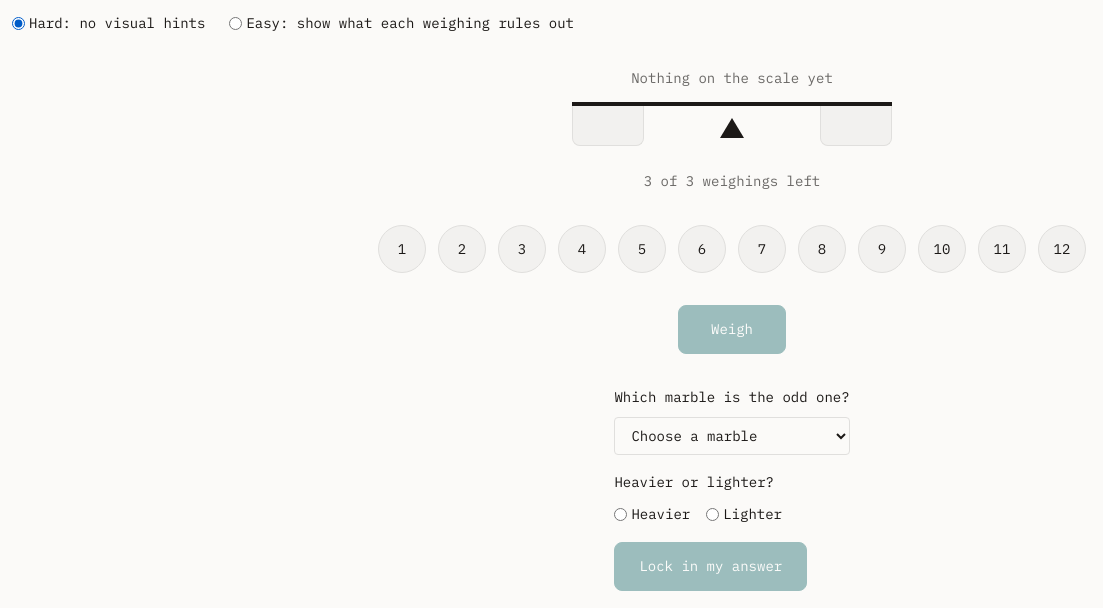
it: MarblePuzzle › only enables "Weigh" once both pans hold an equal, non-zero number of marbles
The image size is (1103, 608).
expect the button "Weigh" is disabled: met, box [678,305,786,354]
Click the button "1": (402, 249) [378,225,426,273]
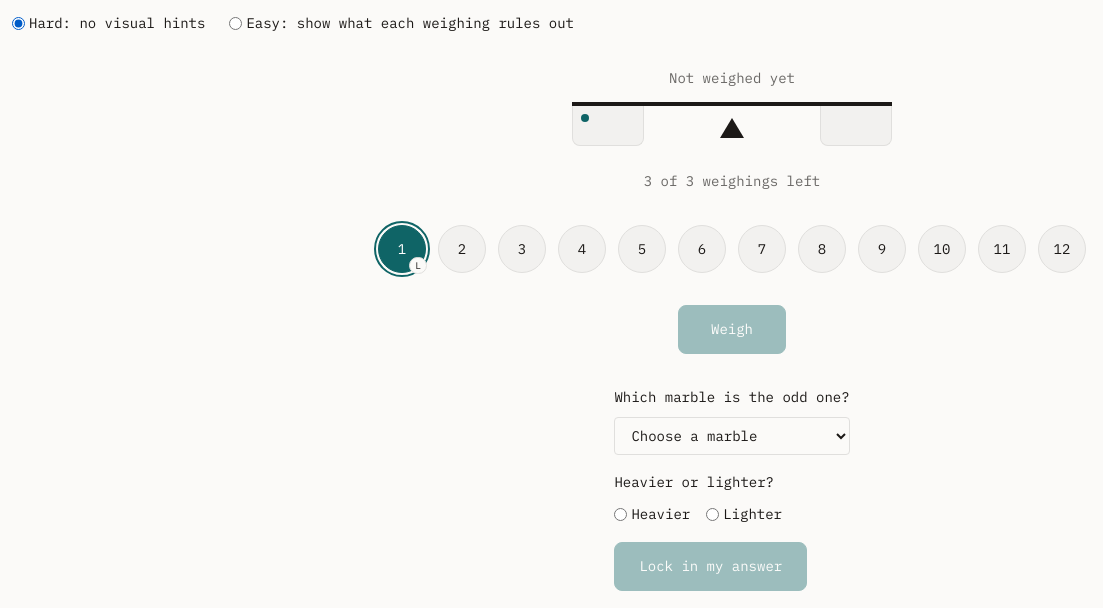
expect the button "Weigh" is disabled: met, box [678,305,786,354]
Click the button "2": (462, 249) [438,225,486,273]
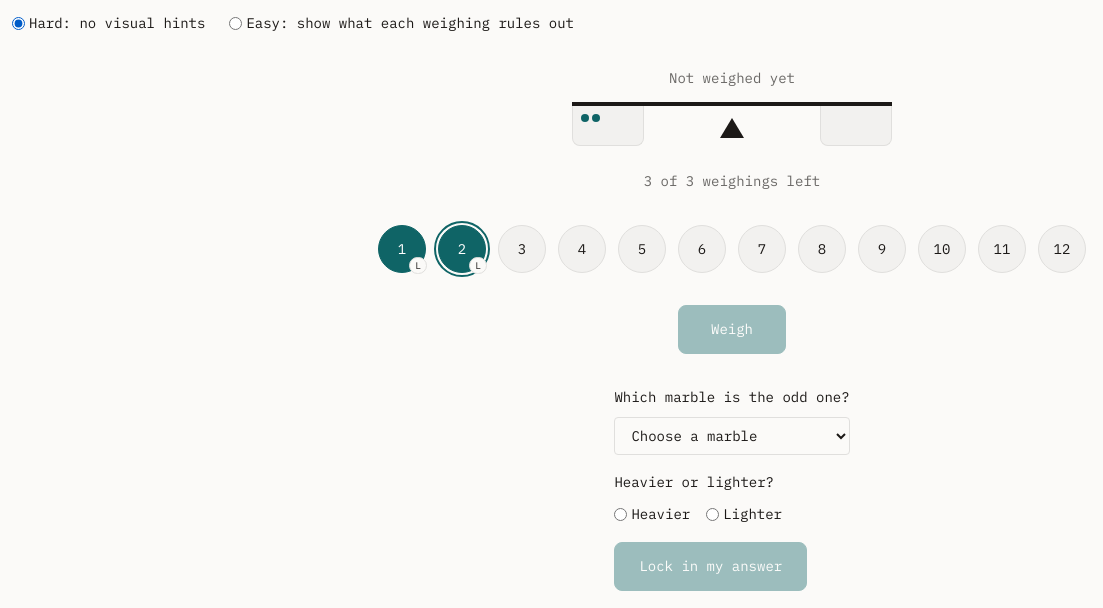
Click the button "2": (462, 249) [438,225,486,273]
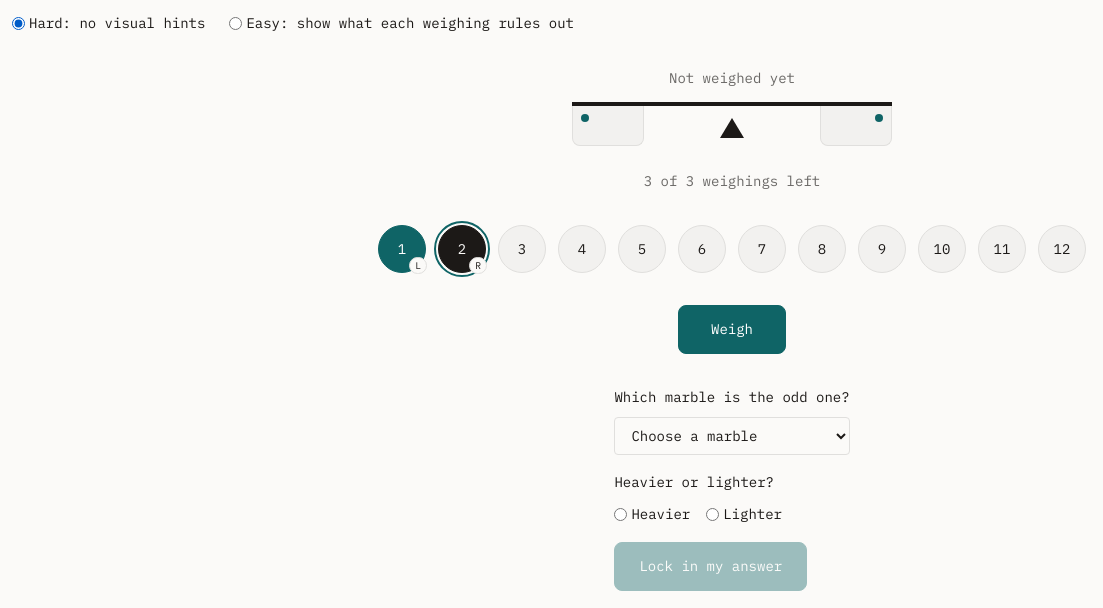
expect the button "Weigh" is enabled: met, box [678,305,786,354]
